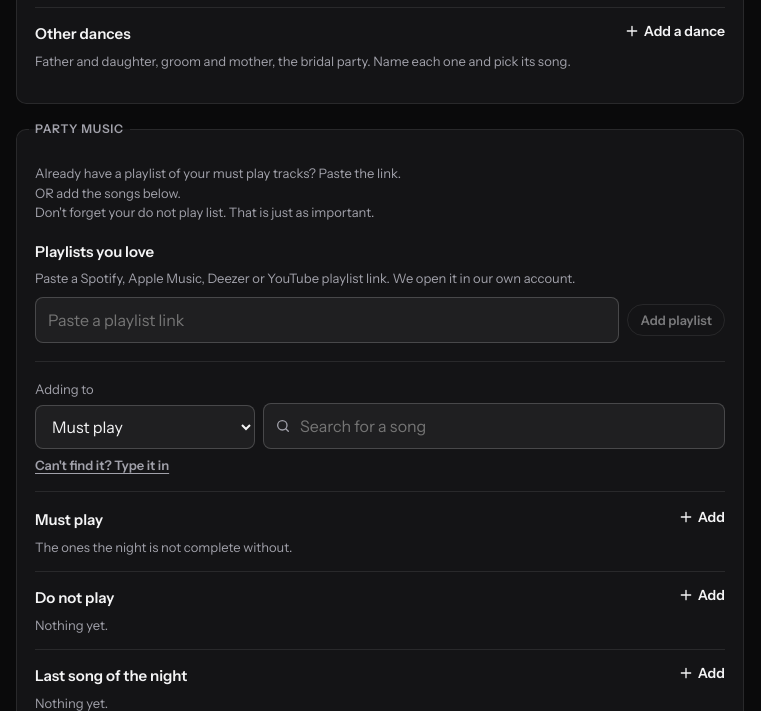
starting a second preview while the first is still starting keeps the second marked as playing
(page scrolled)
Type "perf" into the search field labelled "Search for a song" at (494, 426), box [263,403,725,449]
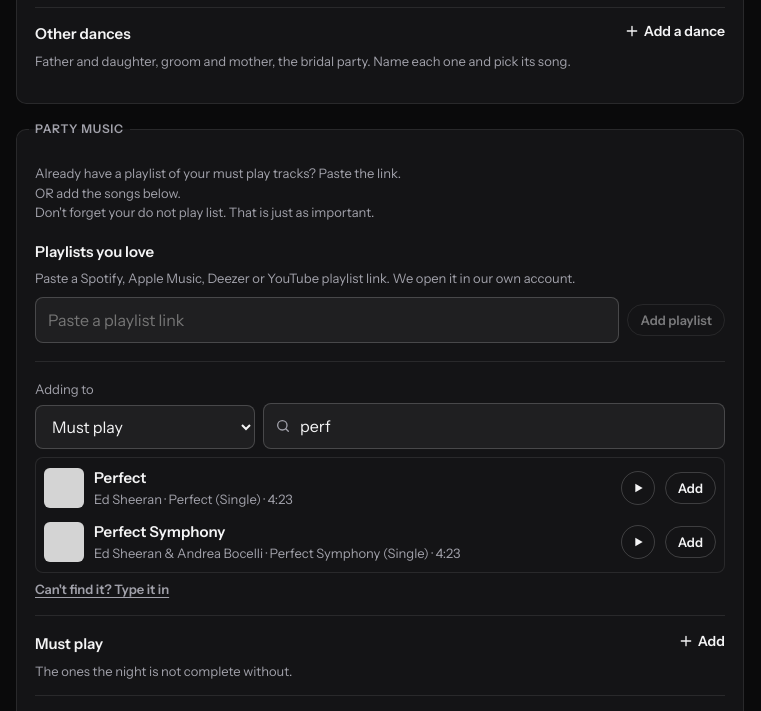
Click the button named "Preview Perfect" at (638, 488), box [621,471,655,505]
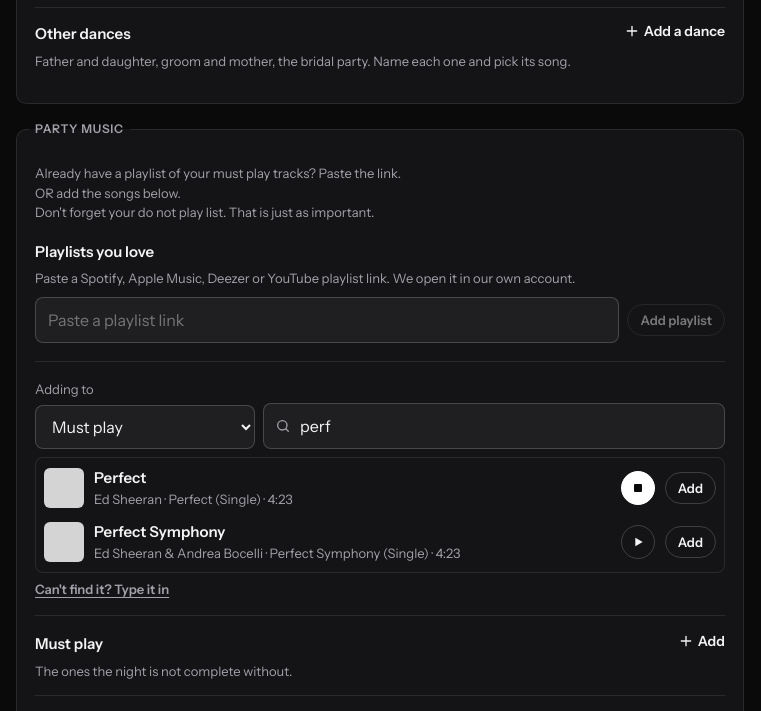
Click the button named "Preview Perfect Symphony" at (638, 542), box [621,525,655,559]
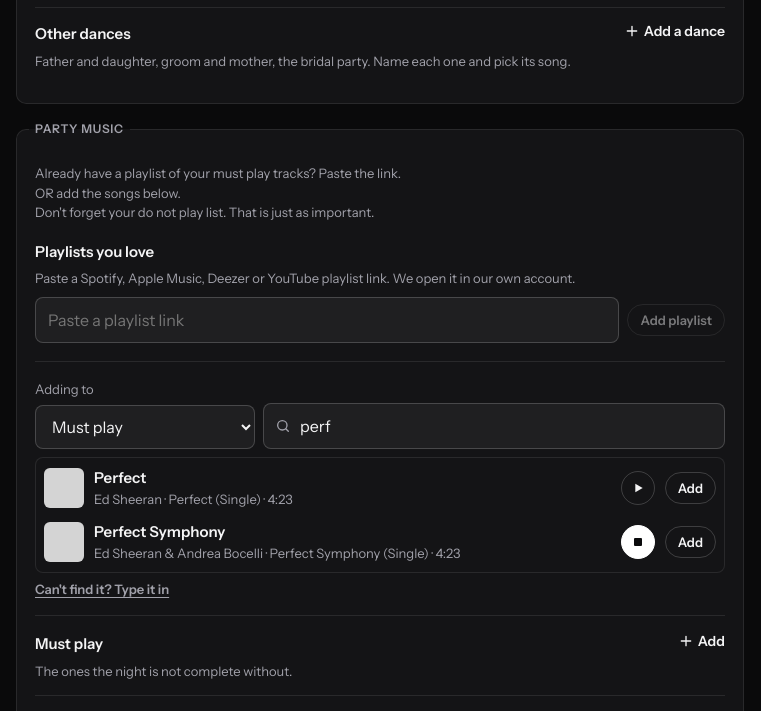
Now the button named "Stop preview of Perfect Symphony" is shown, box [621,525,655,559]
Now the button named "Preview Perfect" is shown, box [621,471,655,505]
